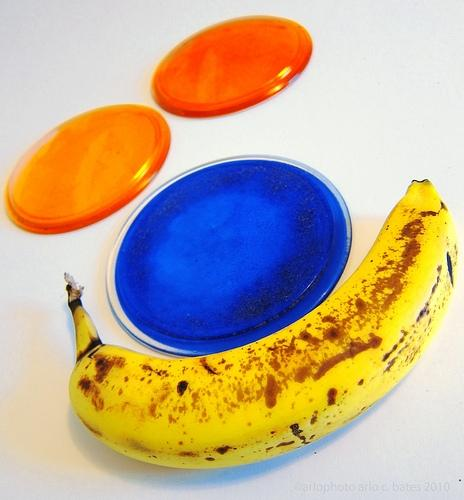banana: (63, 179, 458, 469)
